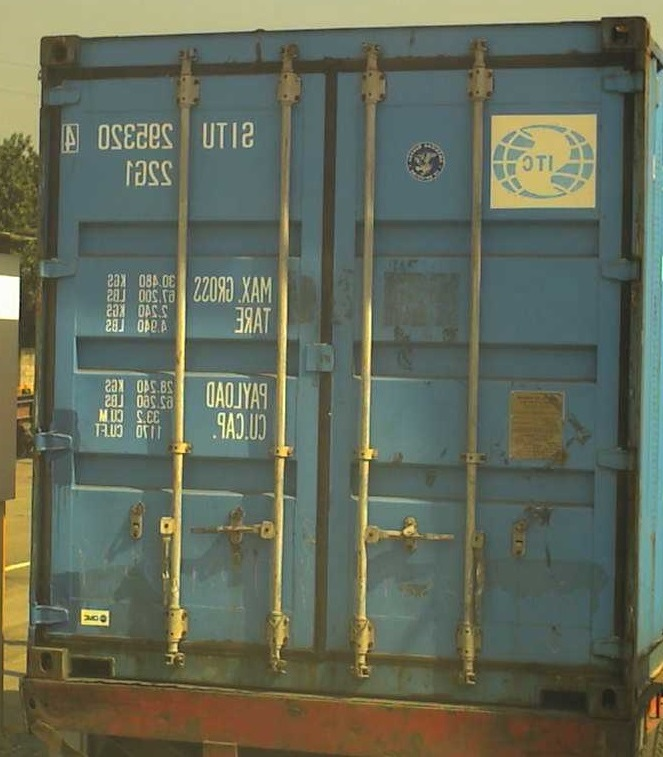container_door: (28, 14, 651, 691)
